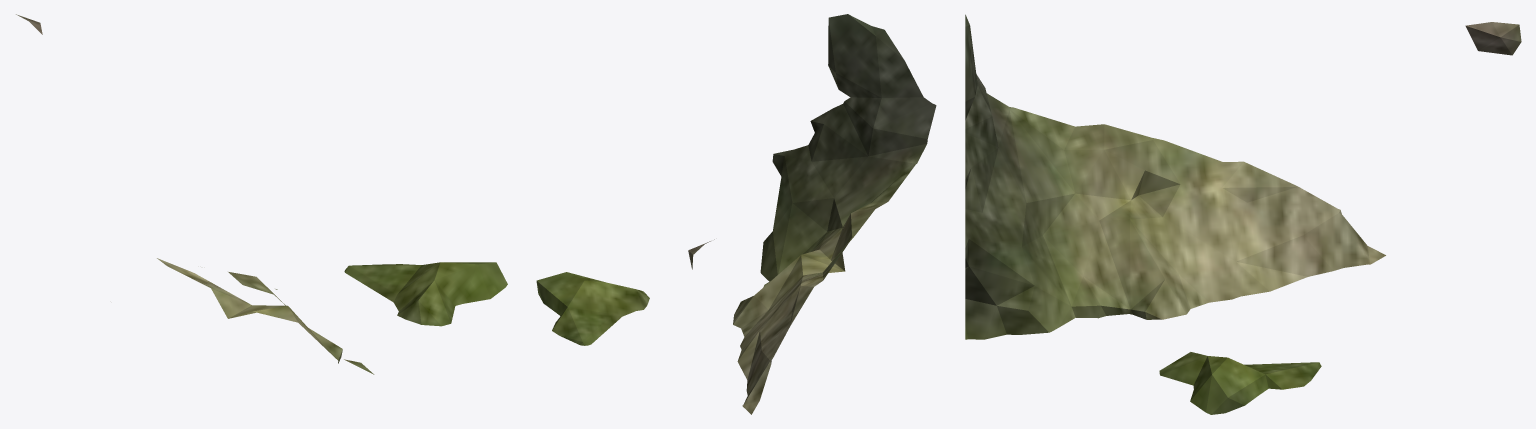
3 renders of one model, left to right at view 1: azimuth 30°, elevation 25°; view 2: azimuth 150°, elevation 25°; view 3: azimuth 270°, elevation 25°, orthographic. The views are drawn at different scales.
Size of the model in its own units: 1.96 by 1.6 by 2.89.
1 material, 1 textured.
